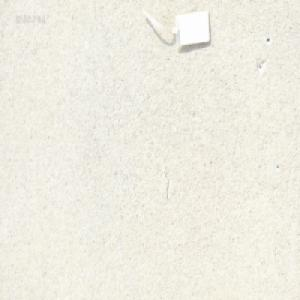LuggageTag: (138, 4, 211, 51)
